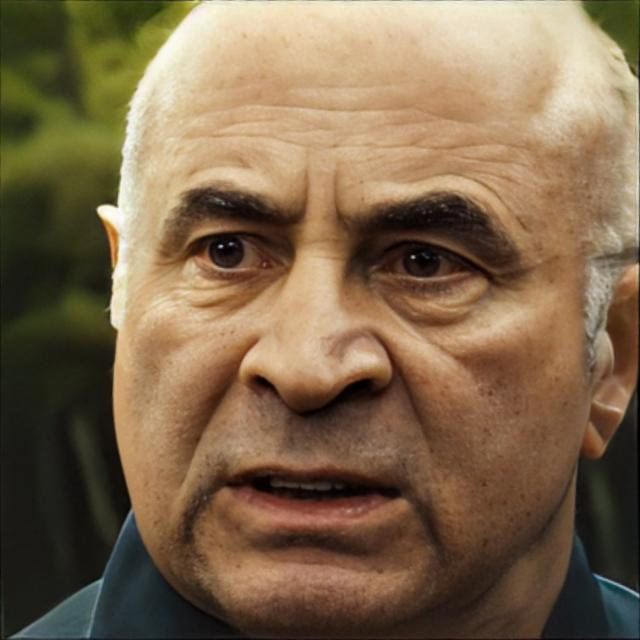anger: (109, 47, 592, 640)
